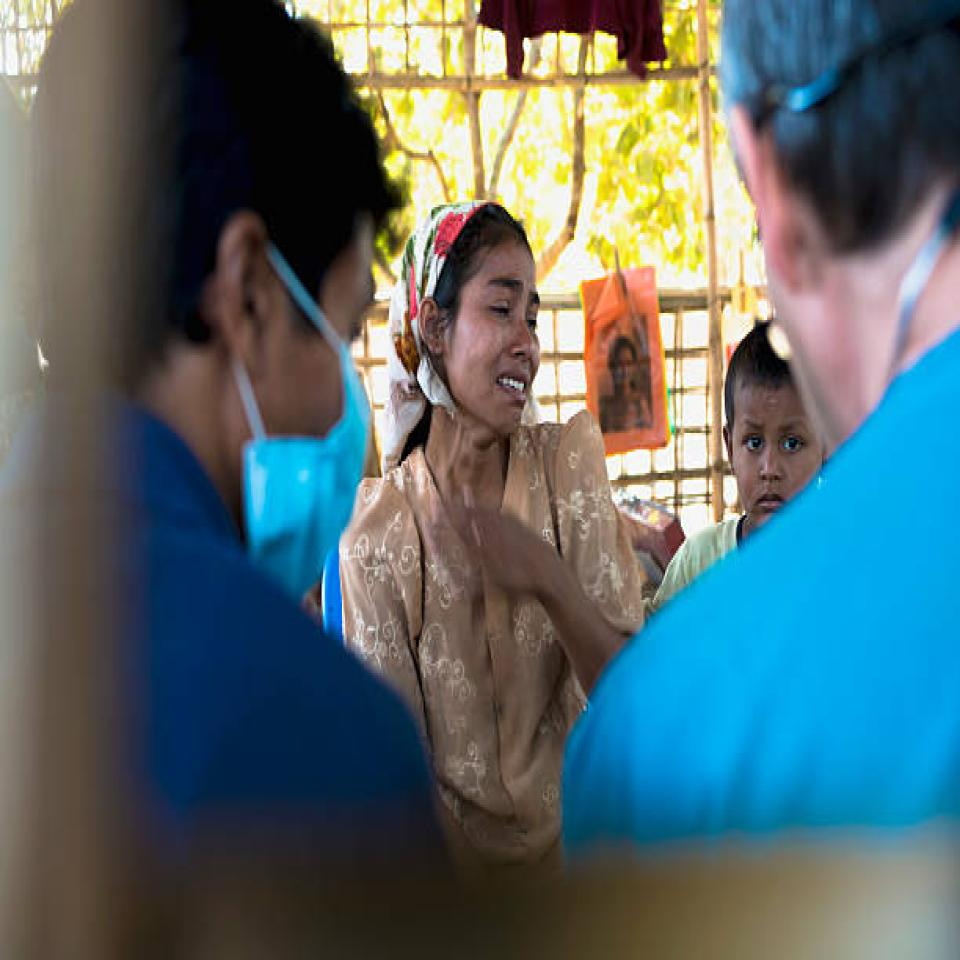Sadness: (439, 247, 541, 433)
